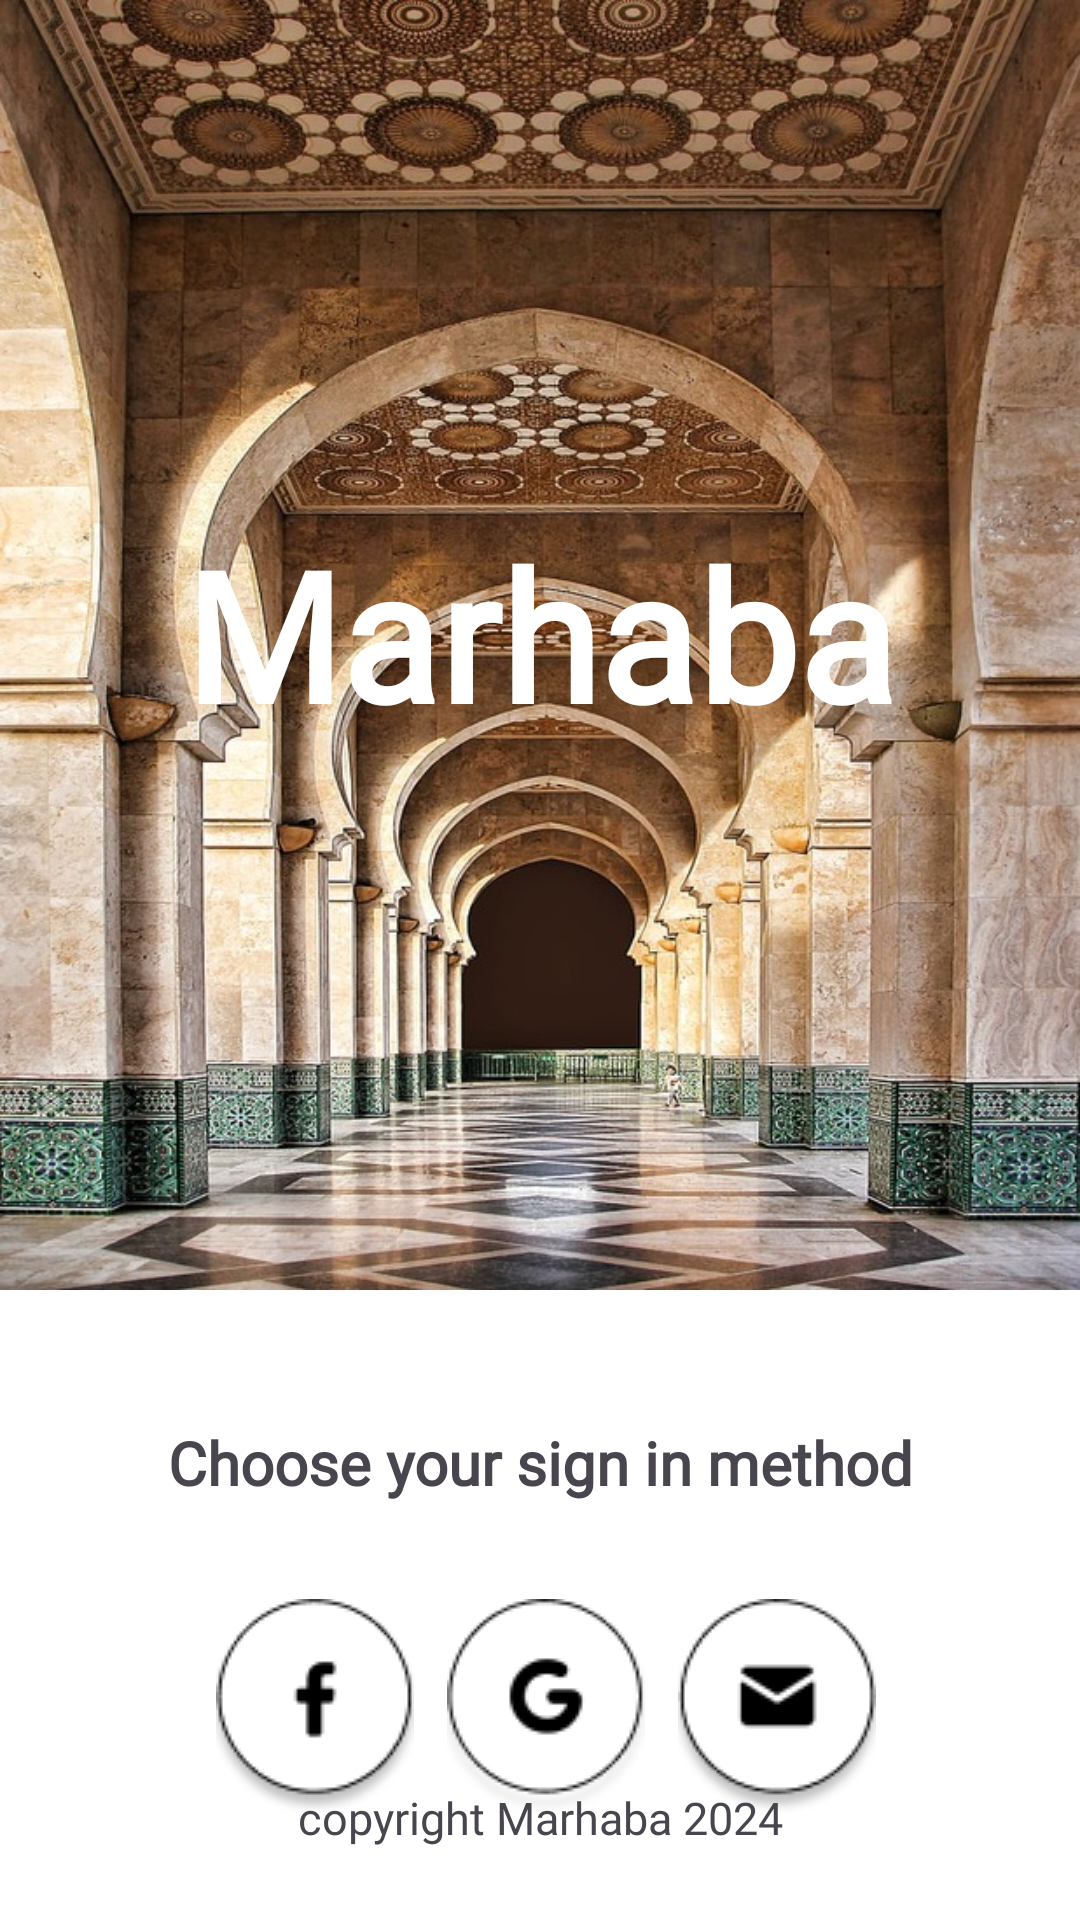

Screen size 1080px x 1920px. Icon name, then its center in pixels as point (x, y):
mail: point (777, 1705)
